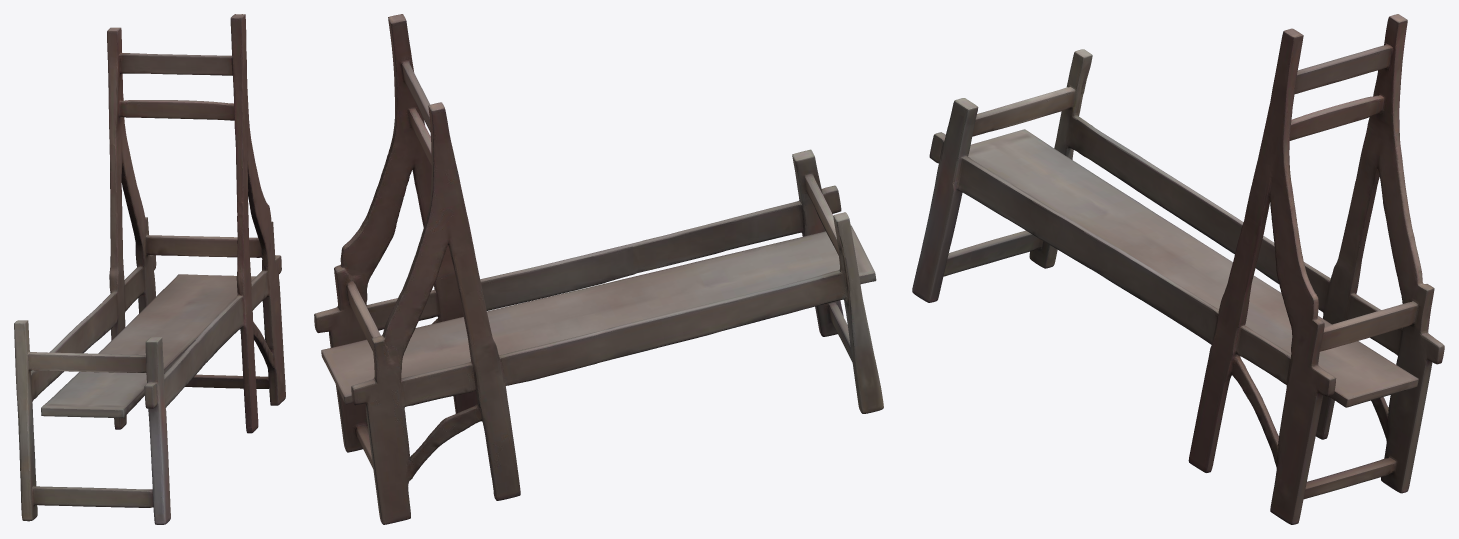
The model's file is wooden_chair_partially_visible_in_foreground_right_000.glb.
3 renders of one model, left to right at view 1: azimuth 30°, elevation 25°; view 2: azimuth 150°, elevation 25°; view 3: azimuth 270°, elevation 25°, orthographic. The views are drawn at different scales.
Parts seen in each view (by area): view 1: wooden_chair_partially_visible_in_foreground_right_000.obj; view 2: wooden_chair_partially_visible_in_foreground_right_000.obj; view 3: wooden_chair_partially_visible_in_foreground_right_000.obj.
Part boxes in pixels (<box>): wooden_chair_partially_visible_in_foreground_right_000.obj: <box>14,14,285,524</box>; wooden_chair_partially_visible_in_foreground_right_000.obj: <box>314,14,883,524</box>; wooden_chair_partially_visible_in_foreground_right_000.obj: <box>912,14,1444,524</box>.
Size of the model in its own units: 0.4136 by 0.4201 by 0.4217.
Materials: 1 (1 with a texture image).
